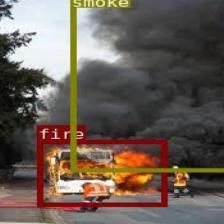fire: (36, 139, 166, 205)
smoke: (69, 0, 224, 171)
